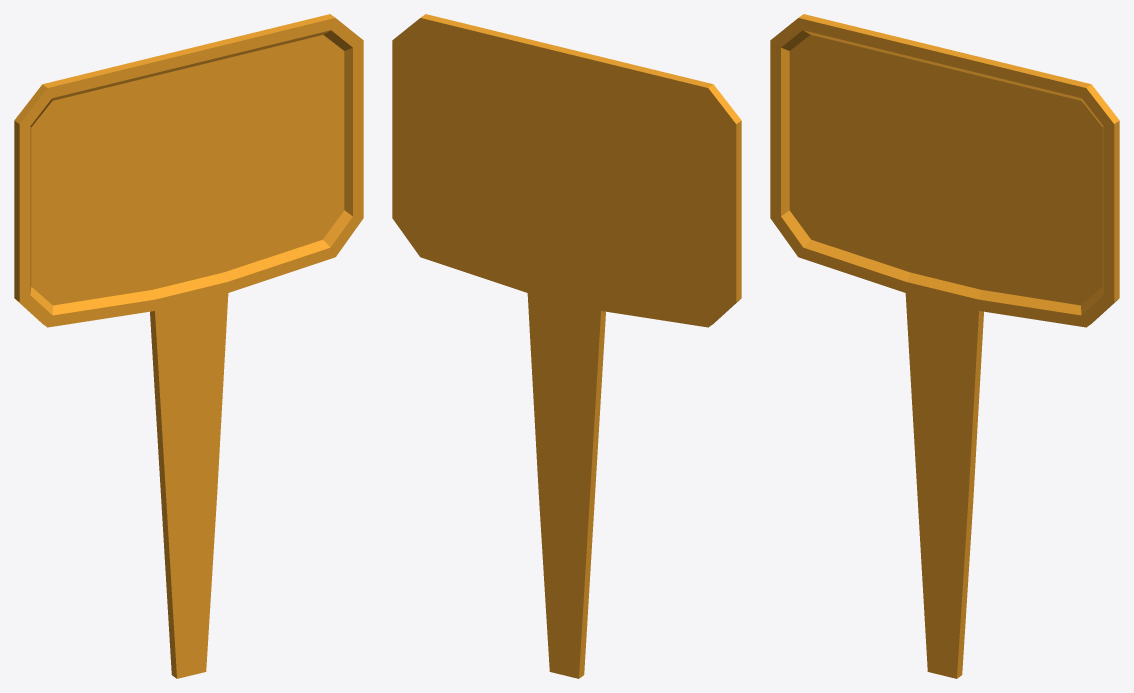
File: SM_Label_Plant_A.fbx
3 renders of one model, left to right at view 1: azimuth 30°, elevation 25°; view 2: azimuth 150°, elevation 25°; view 3: azimuth 330°, elevation 25°, orthographic.
Visible parts, largest first — view 1: label-plant-a; view 2: label-plant-a; view 3: label-plant-a.
Part boxes in pixels (bbox=[...]): label-plant-a: bbox=[14, 14, 363, 678]; label-plant-a: bbox=[392, 14, 741, 678]; label-plant-a: bbox=[770, 14, 1119, 678].
Bounding box in the file's own units: 0.087 × 0.1504 × 0.00232.
